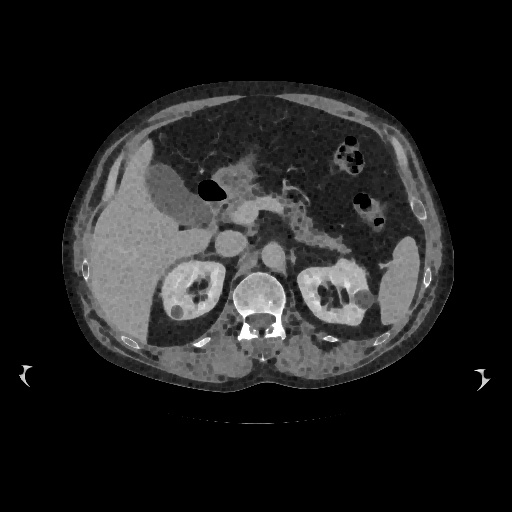Lesion: (351, 287, 375, 311)
